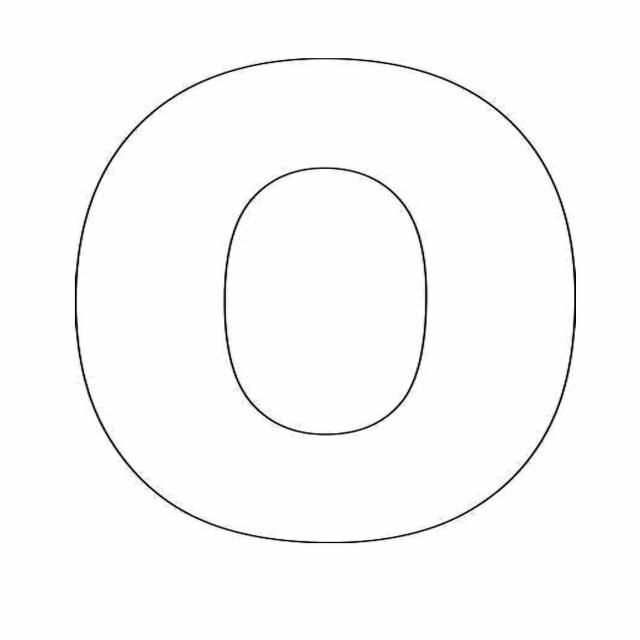O: (42, 10, 588, 577)
